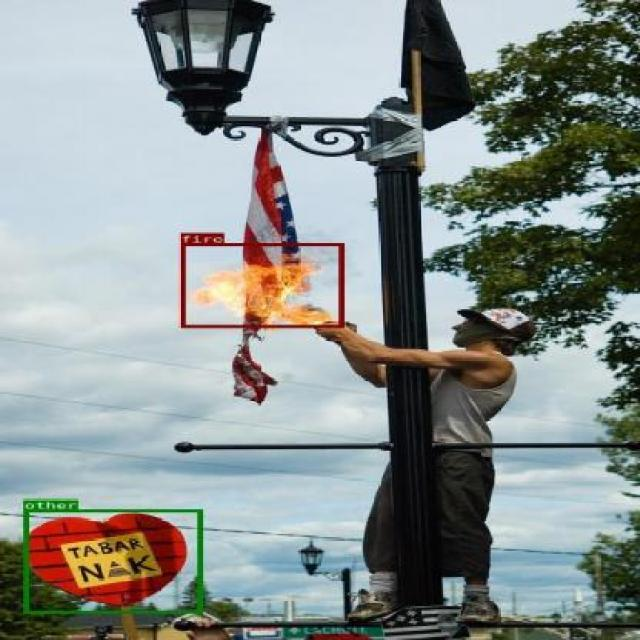Fire: (179, 242, 344, 327)
